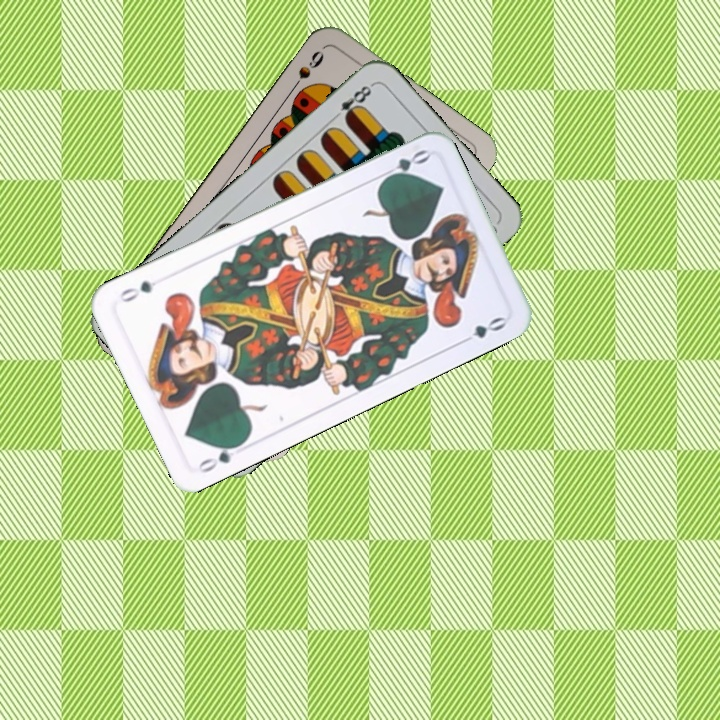E8: (327, 80, 376, 125)
GO: (375, 145, 432, 185), (194, 437, 250, 476)
S9: (285, 46, 327, 96)
